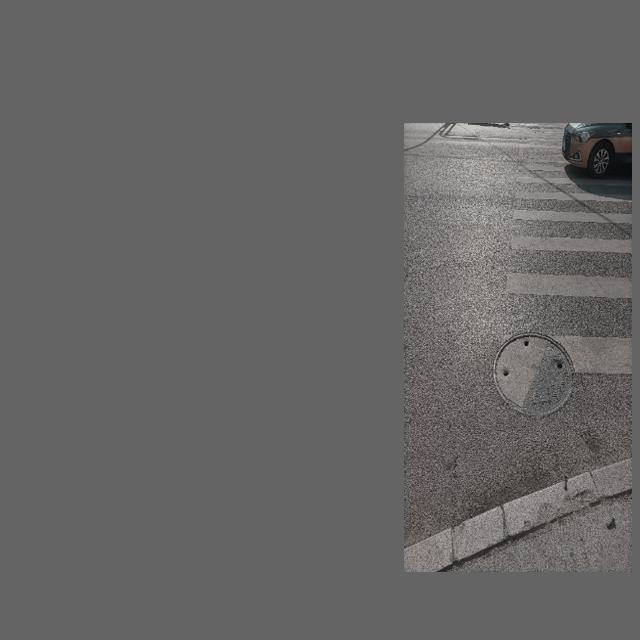broke: (492, 332, 575, 414)
